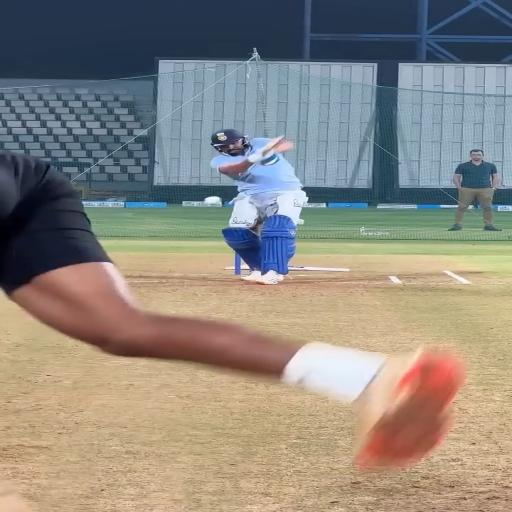Cricket bat: (263, 136, 282, 155)
